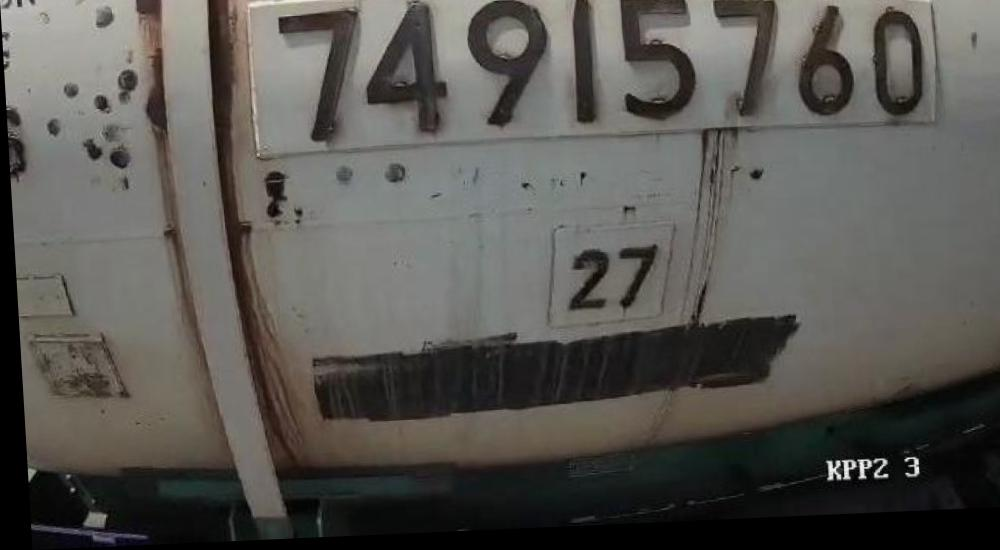Wagon-number: (256, 0, 929, 155)
